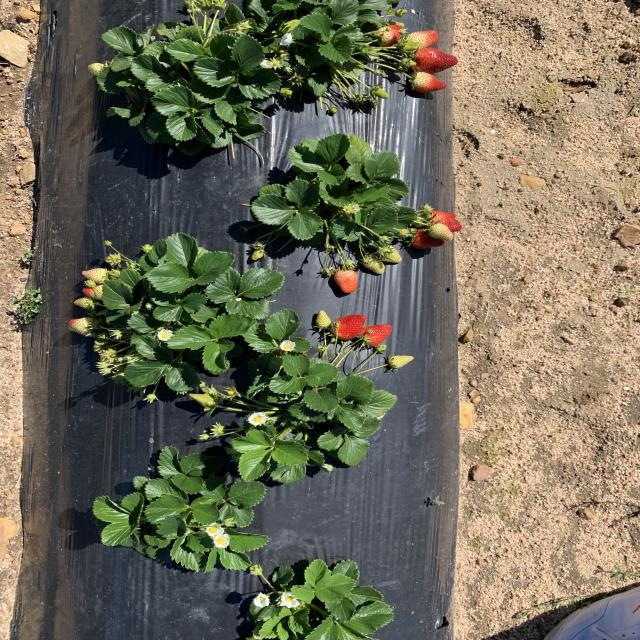unripe: (412, 49, 460, 73), (370, 25, 406, 52), (329, 314, 366, 338), (360, 322, 395, 347), (408, 227, 448, 247), (427, 209, 463, 231), (334, 270, 358, 294)
